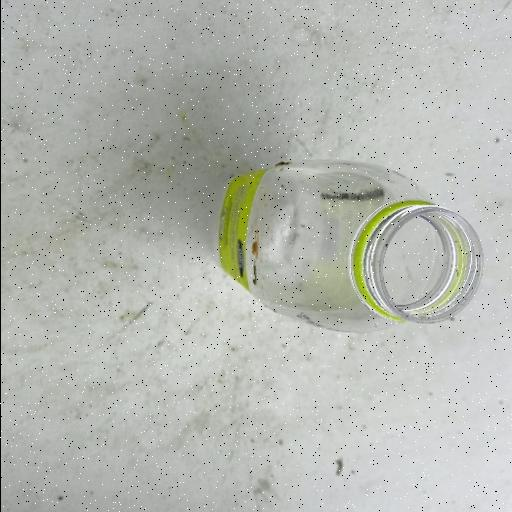Plastic: (214, 155, 486, 336)
